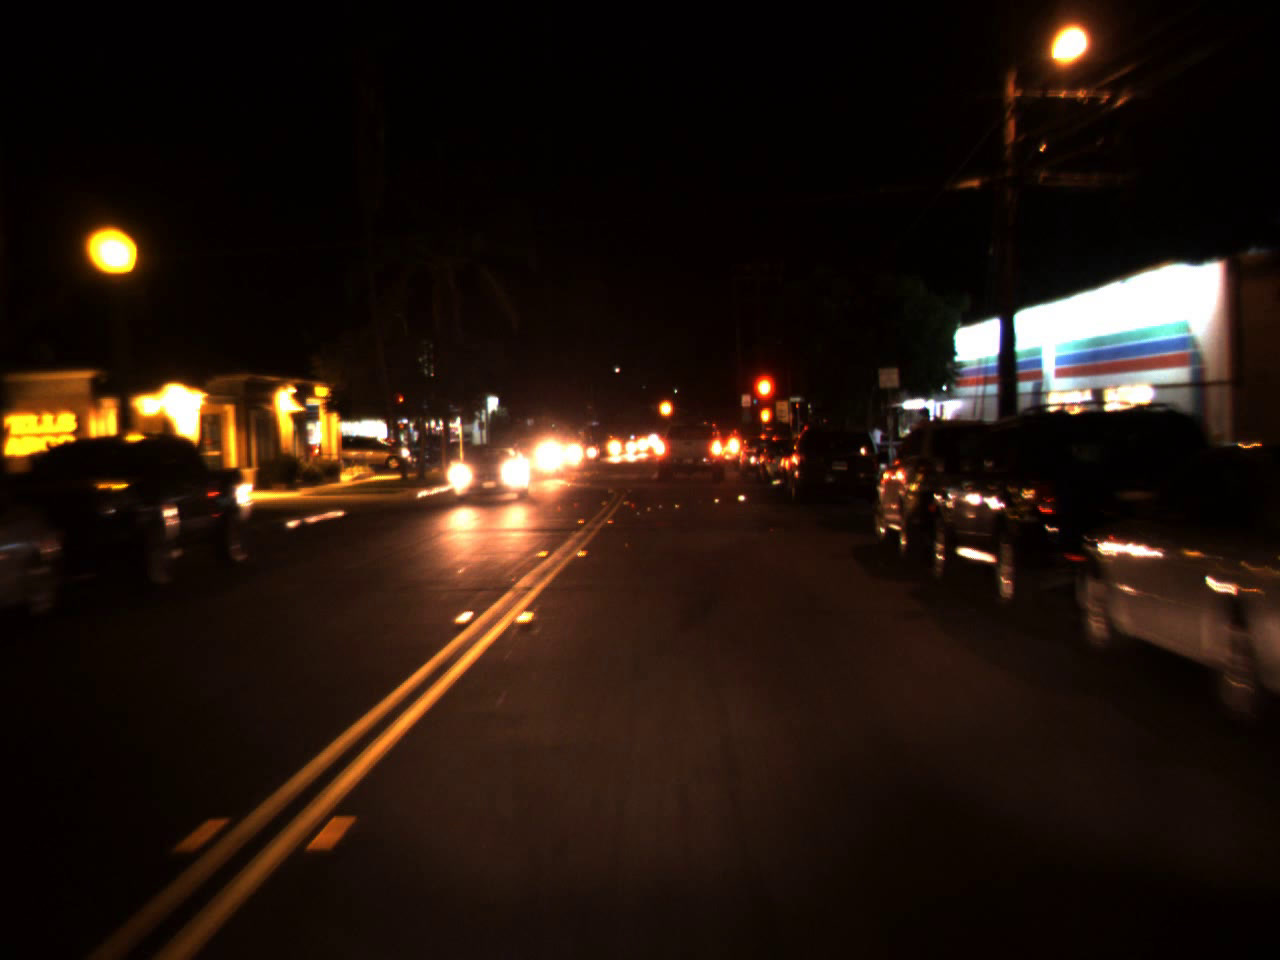stop: (749, 370, 779, 434), (394, 391, 406, 415)
warning: (655, 387, 676, 427)
